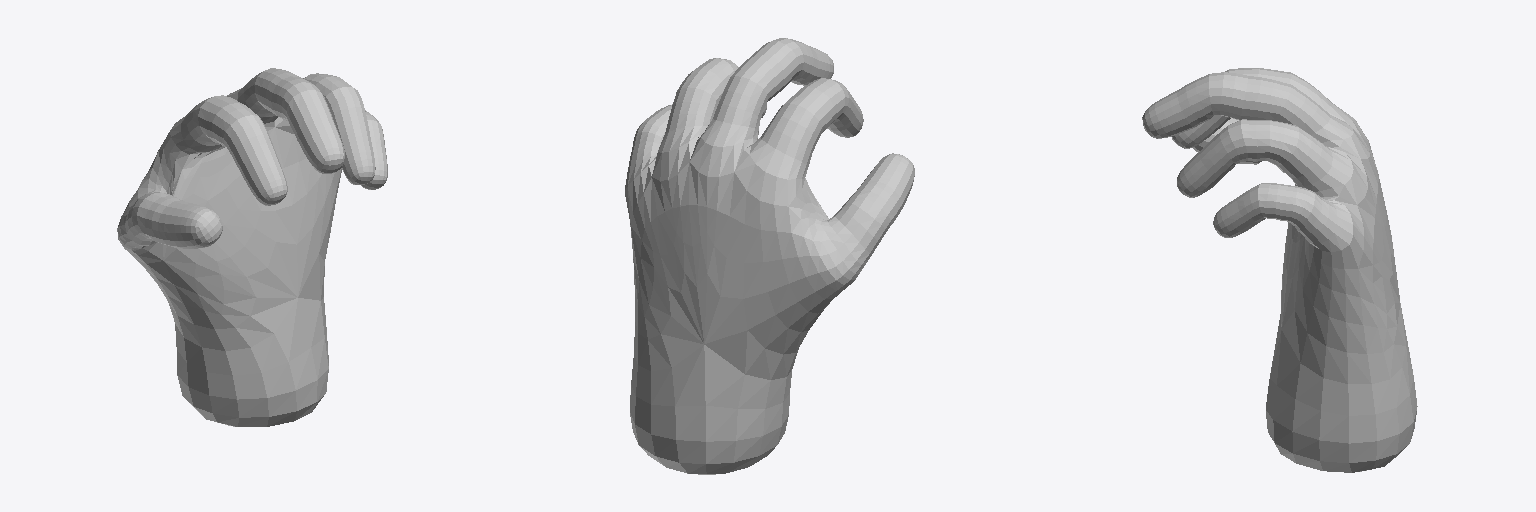
Rendered from handanimatsion39.obj.
3 views of the same model, side by side, from view 1: azimuth 30°, elevation 25°; view 2: azimuth 150°, elevation 25°; view 3: azimuth 270°, elevation 25° (orthographic).
Parts seen in each view (by area): view 1: Cube; view 2: Cube; view 3: Cube.
Part boxes in pixels (x1,y1,x2,y2): Cube: (117,68,387,426); Cube: (625,38,914,474); Cube: (1142,68,1417,472).
Bounding box in the file's own units: 3.23 × 4.87 × 3.2.